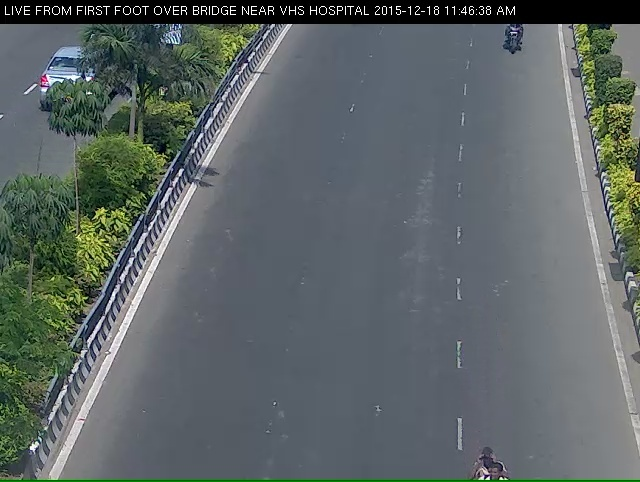Person: (496, 20, 535, 71)
